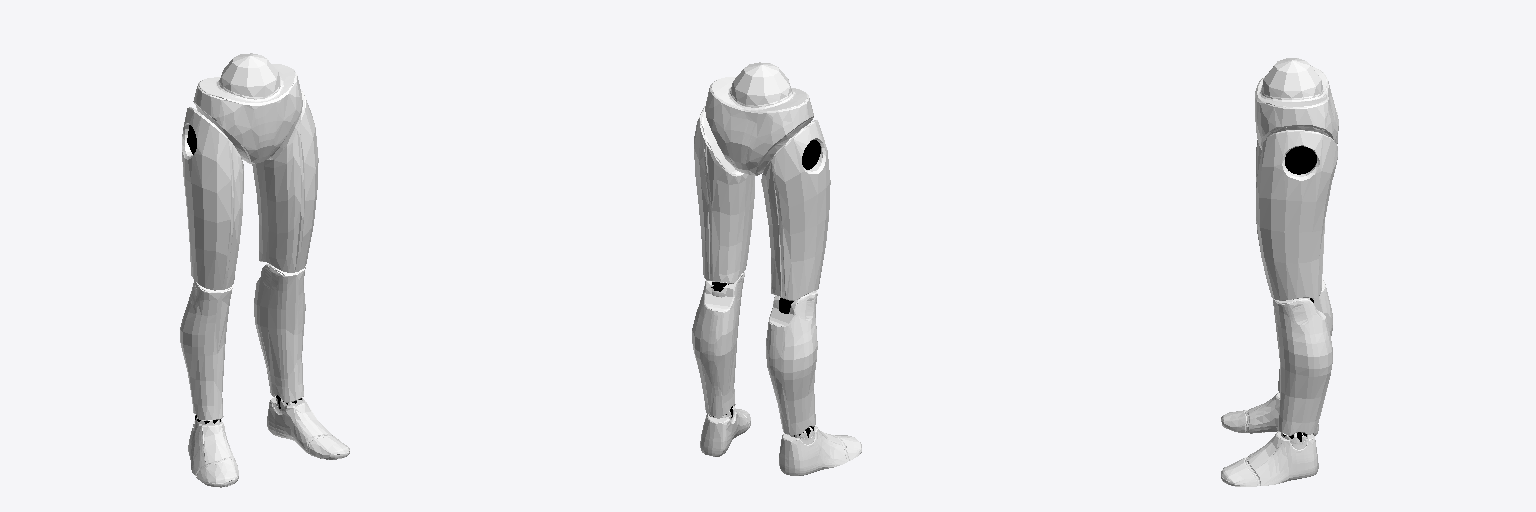
Rendered from hipsAndLegs.obj.
3 views of the same model, side by side, from view 1: azimuth 30°, elevation 25°; view 2: azimuth 150°, elevation 25°; view 3: azimuth 270°, elevation 25° (orthographic).
Visible parts, largest first — view 1: Sup5, Sup4, Sup6, Sup8, Sup7, Sup10, Sup9; view 2: Sup5, Sup4, Sup6, Sup7, Sup8, Sup9, Sup10; view 3: Sup6, Sup8, Sup4, Sup10, Sup9.
Boxes of the visible parts, x1=… form: Sup5: x1=182, y1=107, x2=243, y2=290; Sup4: x1=193, y1=53, x2=301, y2=163; Sup6: x1=252, y1=91, x2=318, y2=272; Sup8: x1=254, y1=264, x2=305, y2=408; Sup7: x1=180, y1=280, x2=232, y2=423; Sup10: x1=267, y1=397, x2=349, y2=459; Sup9: x1=188, y1=415, x2=238, y2=487; Sup5: x1=761, y1=120, x2=830, y2=303; Sup4: x1=705, y1=62, x2=813, y2=175; Sup6: x1=694, y1=104, x2=754, y2=290; Sup7: x1=766, y1=291, x2=817, y2=437; Sup8: x1=692, y1=272, x2=744, y2=417; Sup9: x1=779, y1=426, x2=861, y2=475; Sup10: x1=700, y1=406, x2=750, y2=456; Sup6: x1=1256, y1=130, x2=1337, y2=301; Sup8: x1=1273, y1=298, x2=1332, y2=441; Sup4: x1=1255, y1=58, x2=1338, y2=149; Sup10: x1=1221, y1=432, x2=1318, y2=486; Sup9: x1=1221, y1=392, x2=1318, y2=435.
Size of the model in its own units: 16.55 by 43.04 by 11.72.